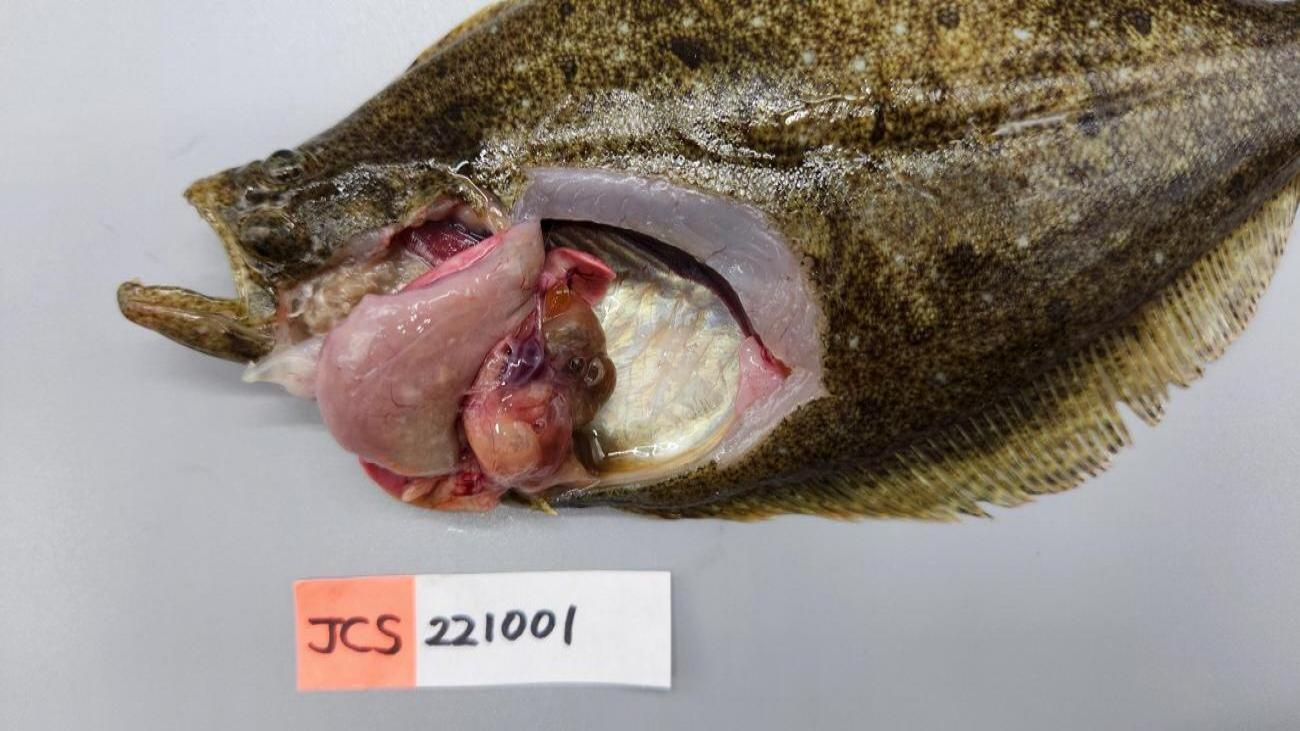POINN: (462, 334, 556, 490)
POSPN: (505, 334, 542, 390)
